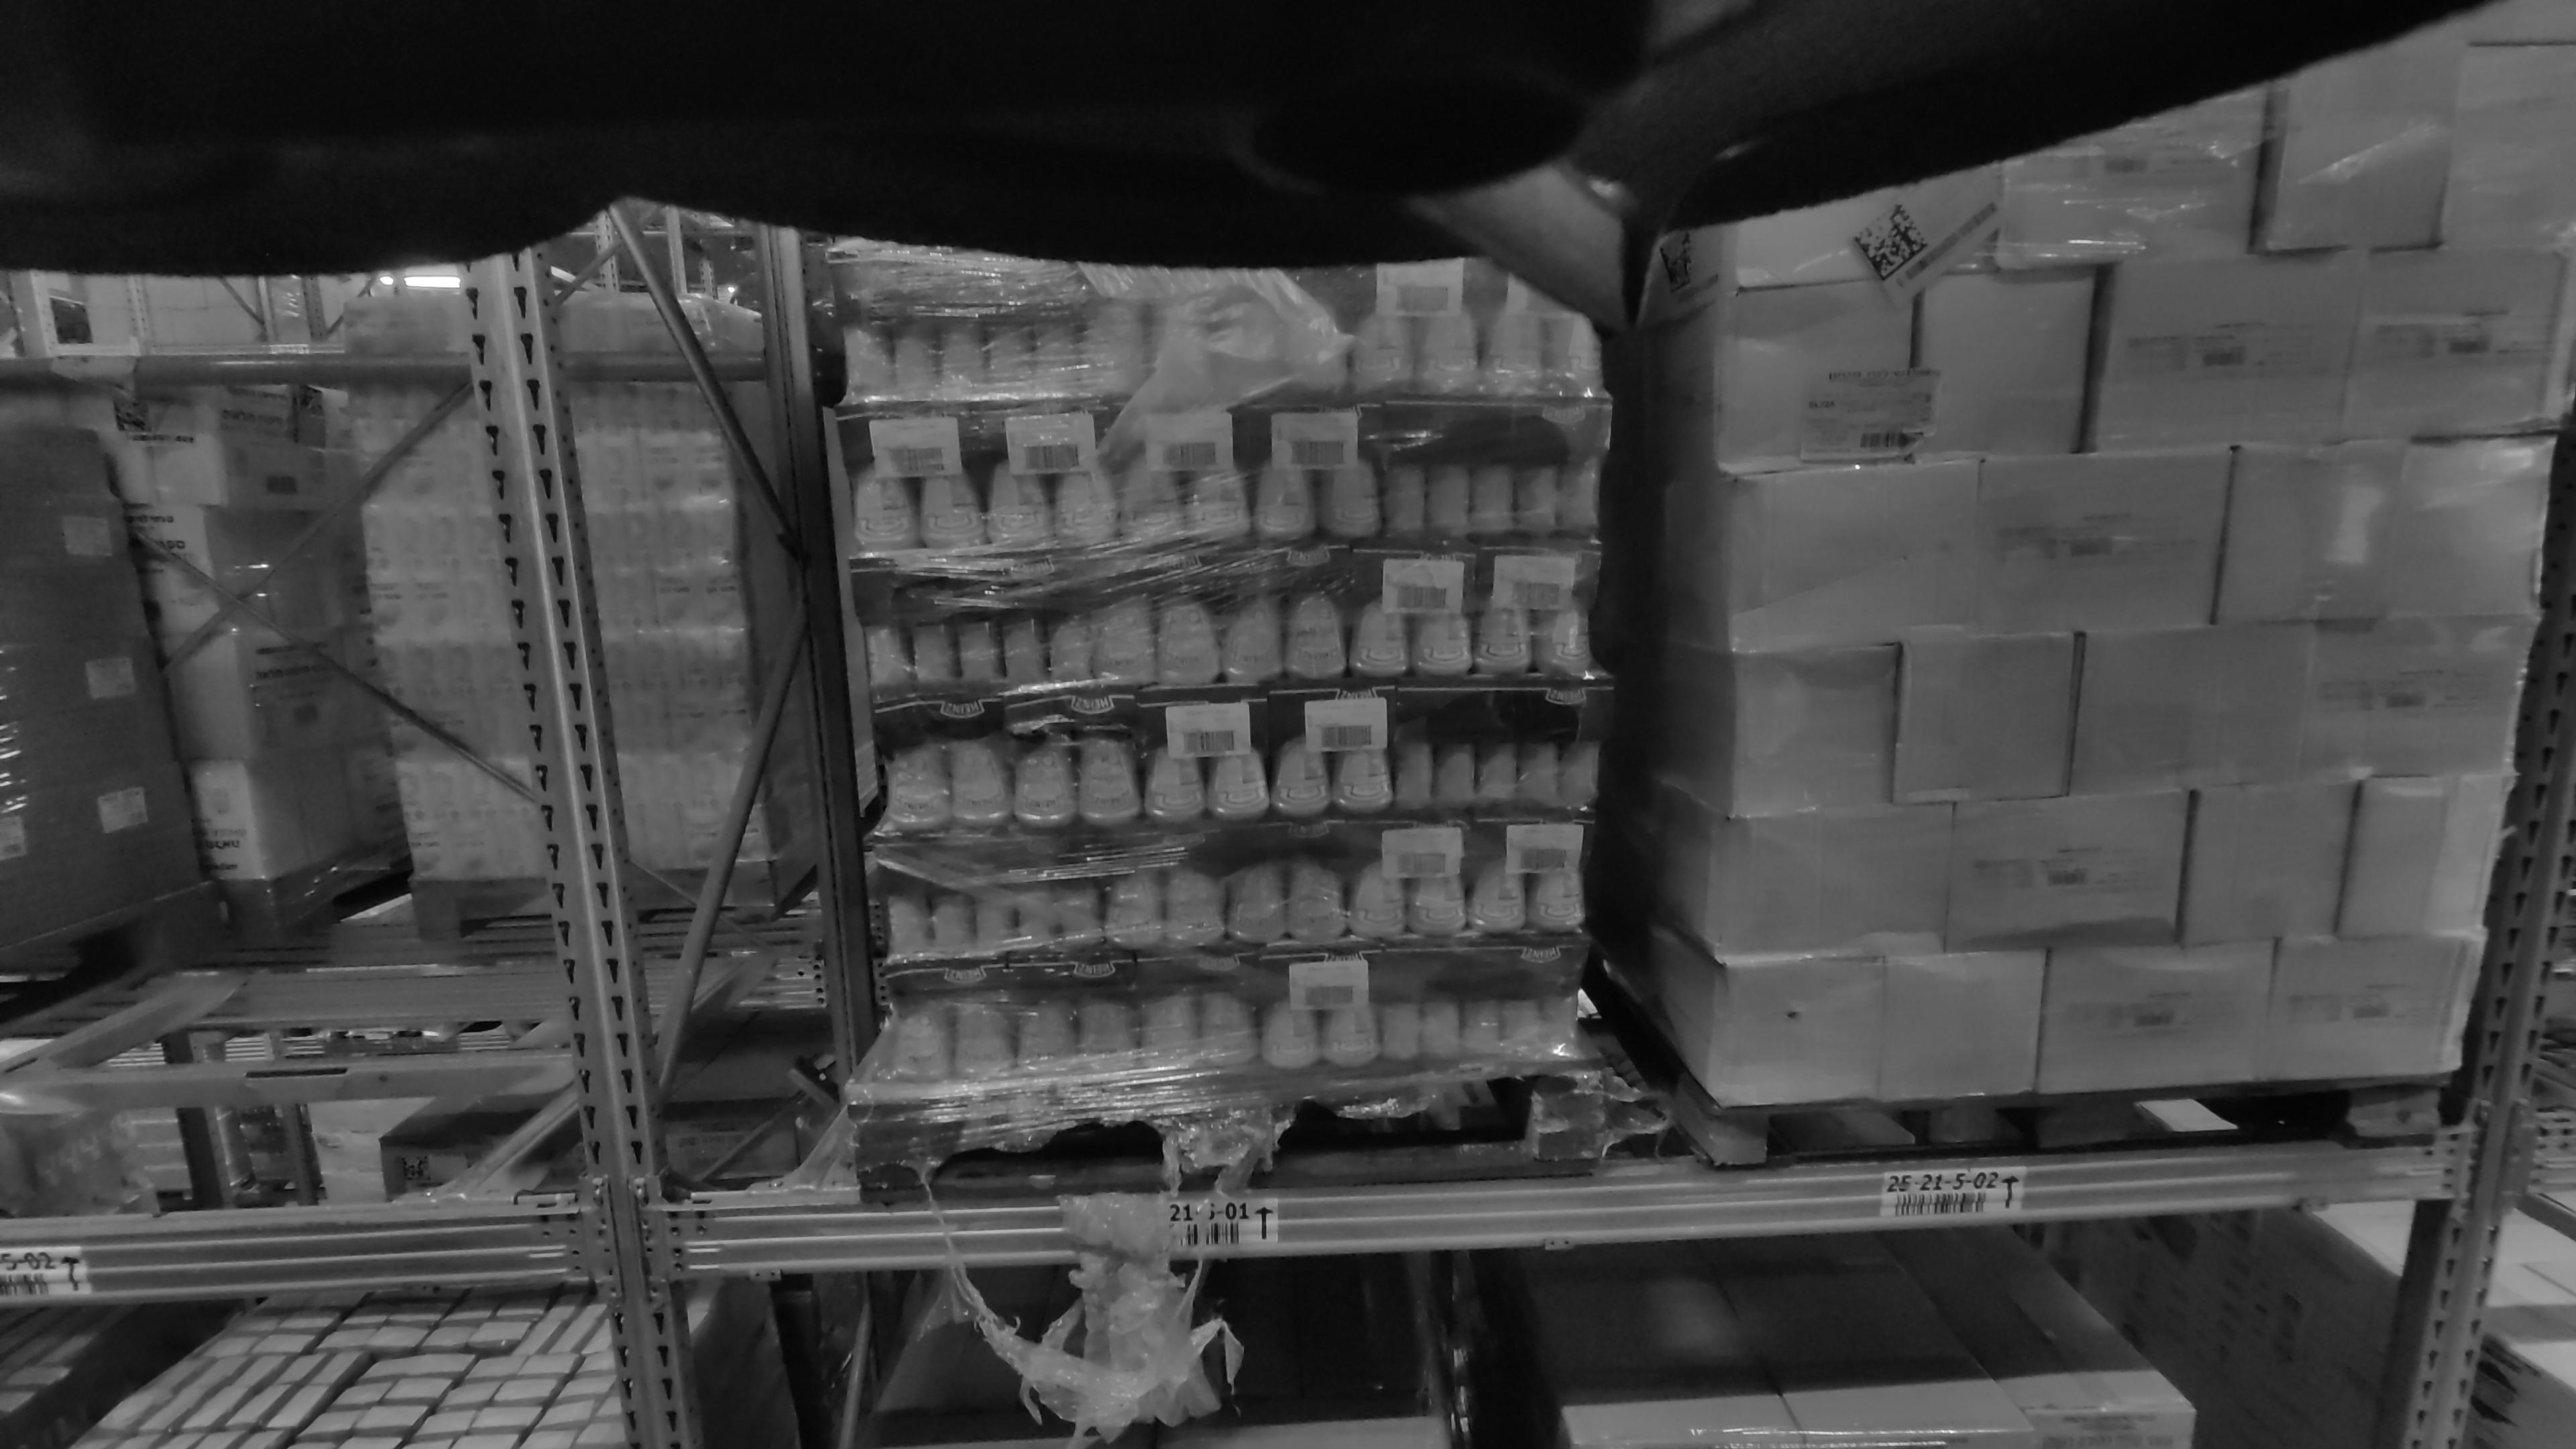empty-shelf: (0, 272, 497, 1203)
